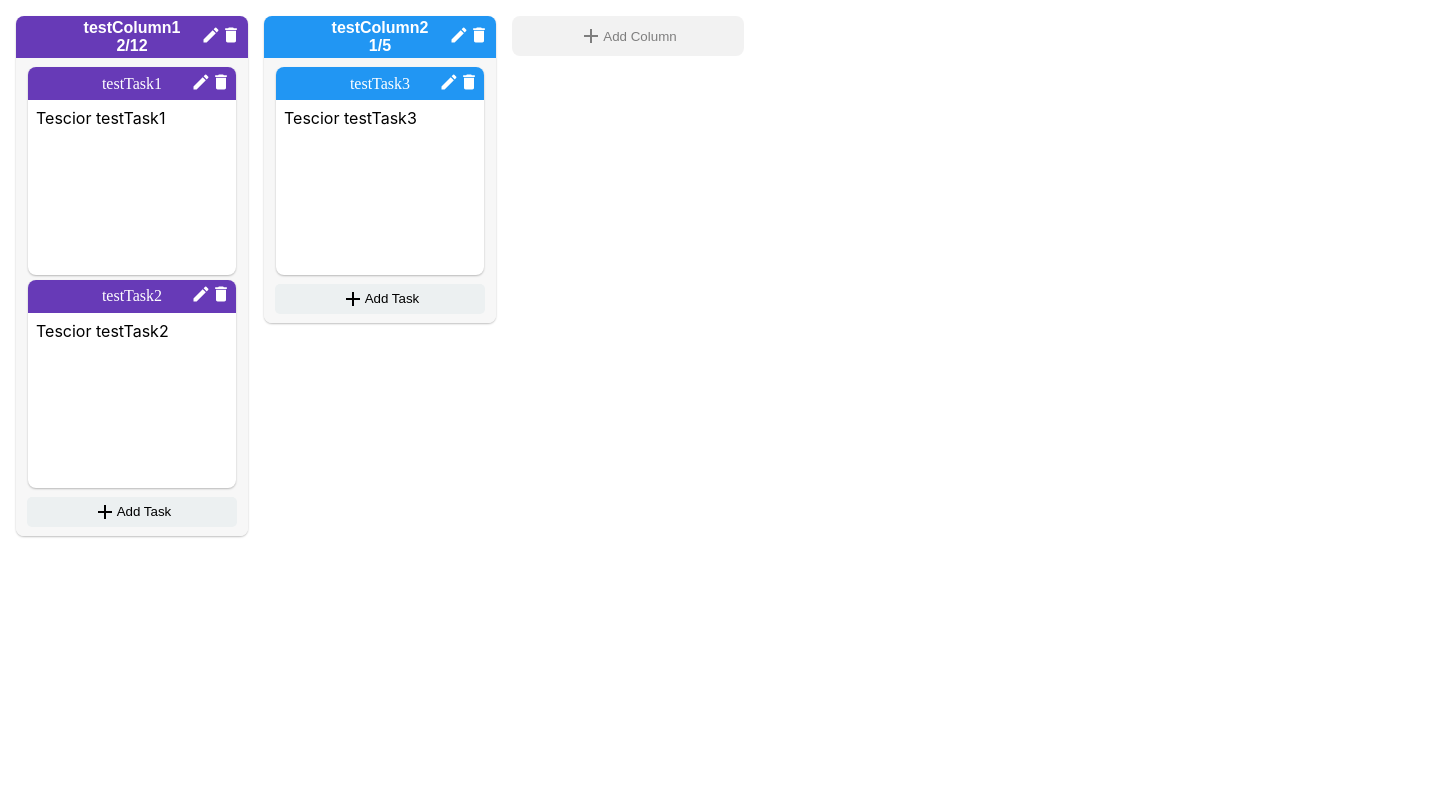
Scenario: Kanban › should render add column button thats open a modal
What coordinates should you click on to do the following:
click the button "Add Column"
I would click on:
 (628, 36)
Its box is [512,16,744,56].
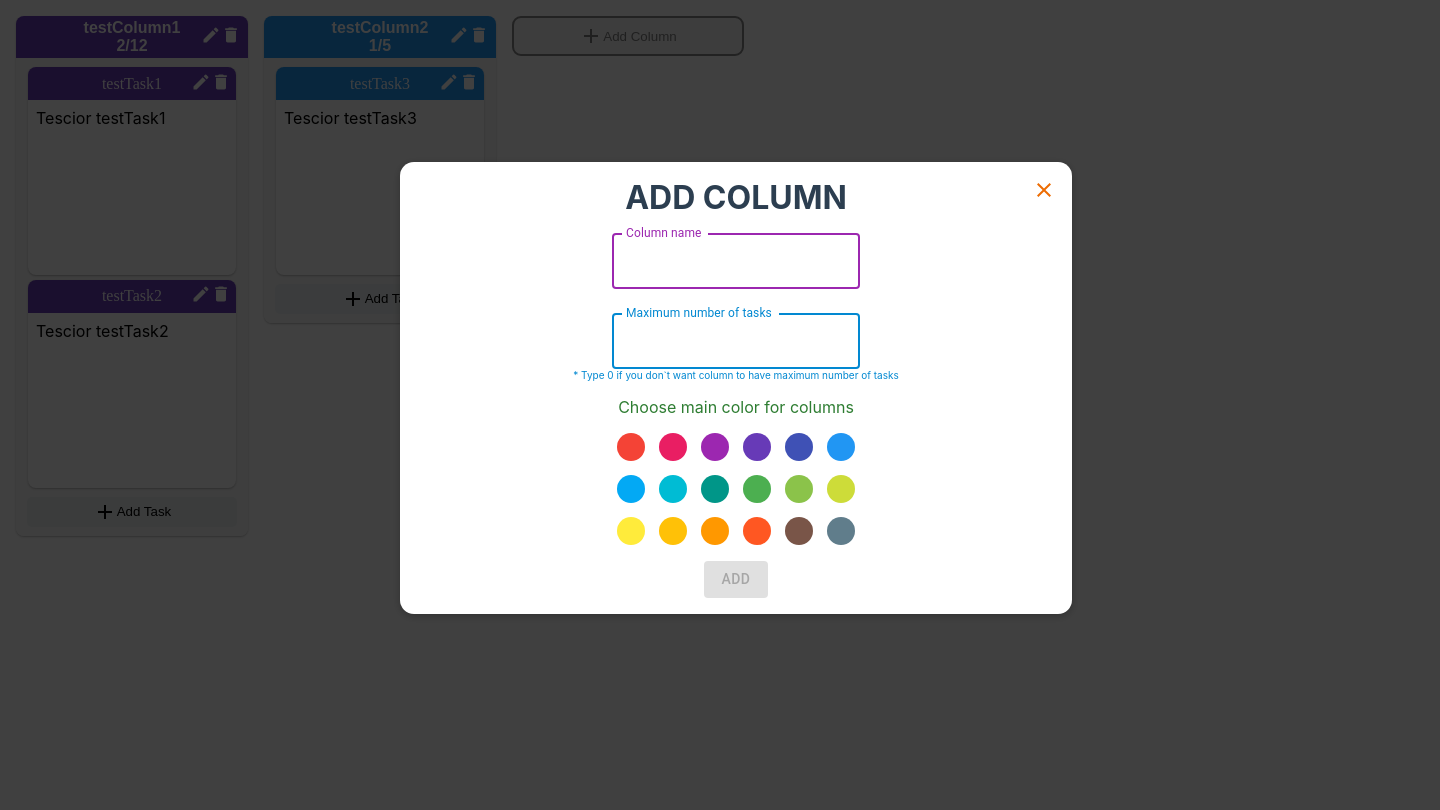
Check: the form with test id "manage-column-modal" is shown, box [573,178,1056,598]
